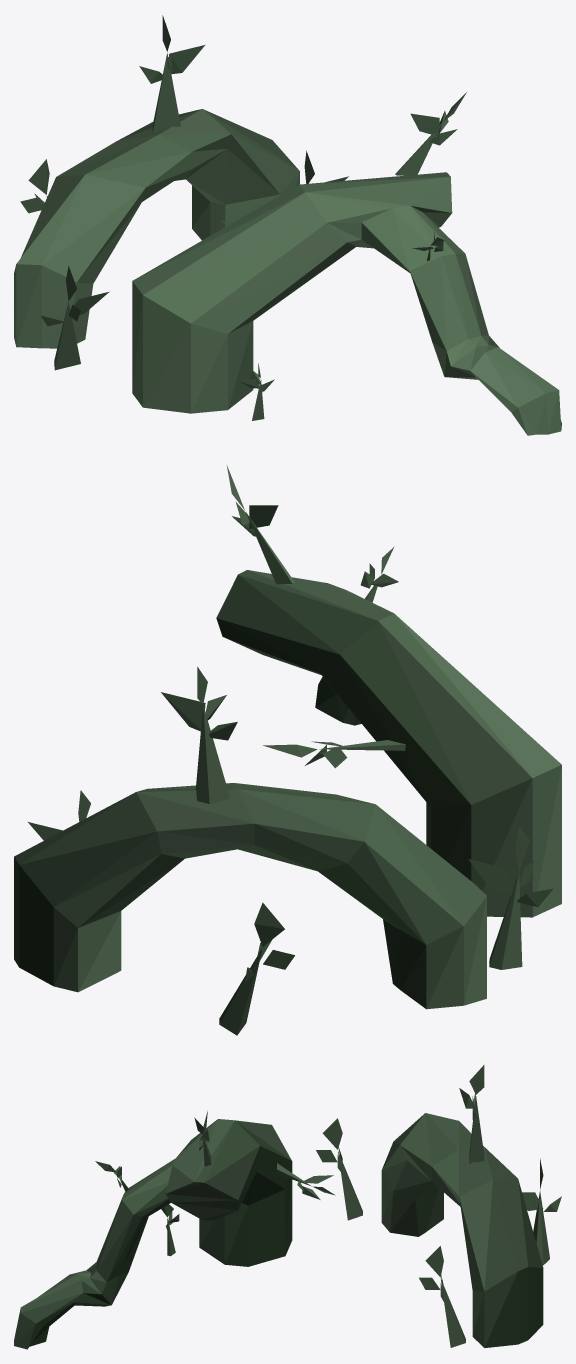
The model's file is roots3.fbx.
3 renders of one model, top to bottom at view 1: azimuth 30°, elevation 25°; view 2: azimuth 150°, elevation 25°; view 3: azimuth 270°, elevation 25°, orthographic. The views are drawn at different scales.
Parts seen in each view (by area): view 1: Object Roots 2024-03-15_11-54-12; view 2: Object Roots 2024-03-15_11-54-12; view 3: Object Roots 2024-03-15_11-54-12.
Part boxes in pixels (x1=…): Object Roots 2024-03-15_11-54-12: x1=14, y1=15, x2=561, y2=435; Object Roots 2024-03-15_11-54-12: x1=14, y1=465, x2=561, y2=1035; Object Roots 2024-03-15_11-54-12: x1=14, y1=1065, x2=561, y2=1349.
Size of the model in its own units: 22200 by 15200 by 32500.
